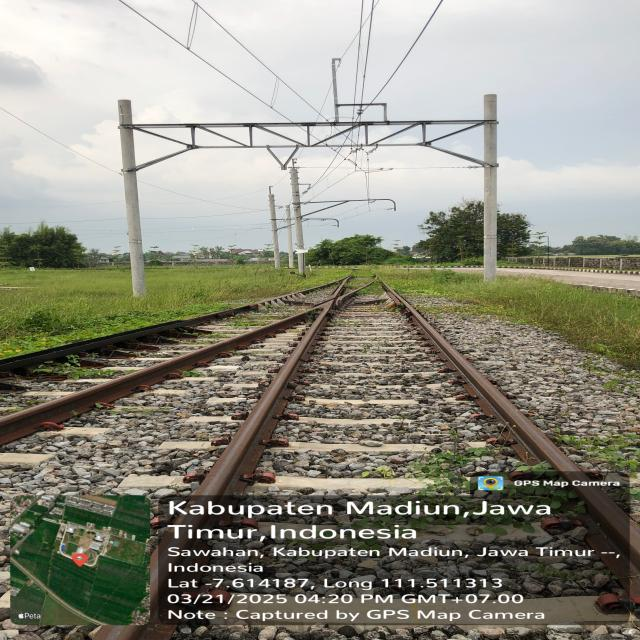rail-detection: (385, 285, 640, 589), (0, 310, 310, 445), (194, 300, 335, 496), (0, 295, 291, 371)
